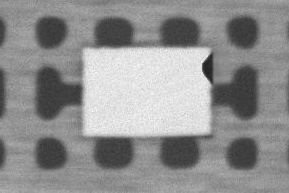DIE_BROKEN: (200, 53, 215, 86)
